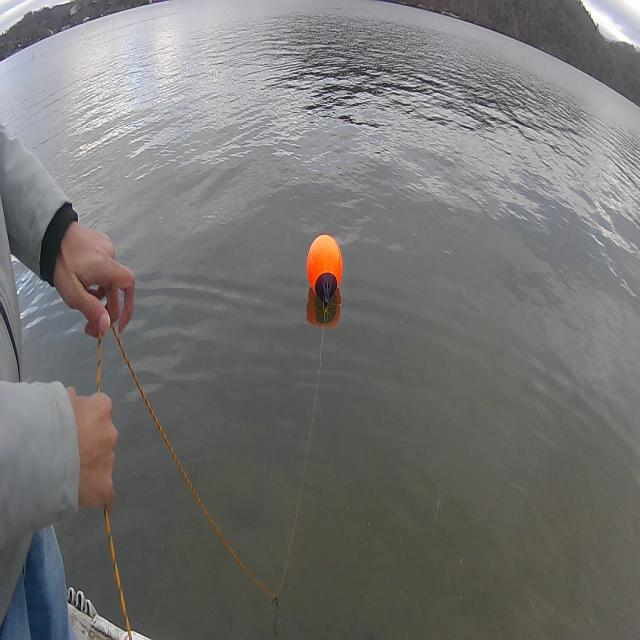Buoy: (301, 224, 347, 313)
